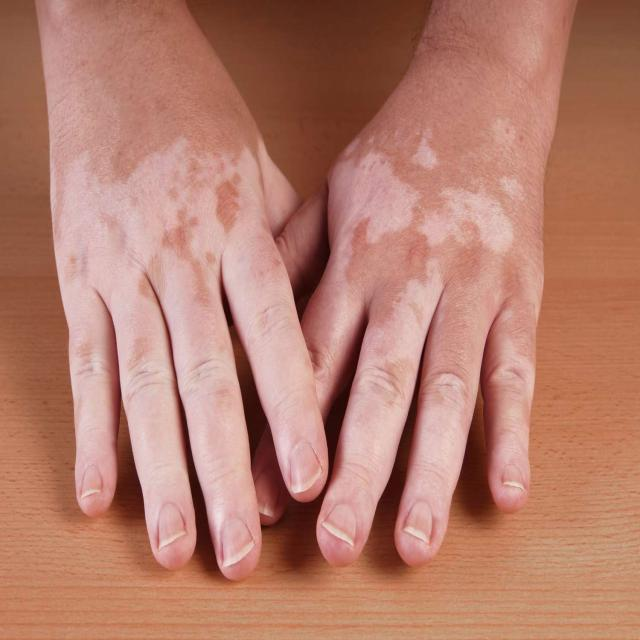vitiligo: (49, 32, 308, 488), (317, 14, 549, 501)
